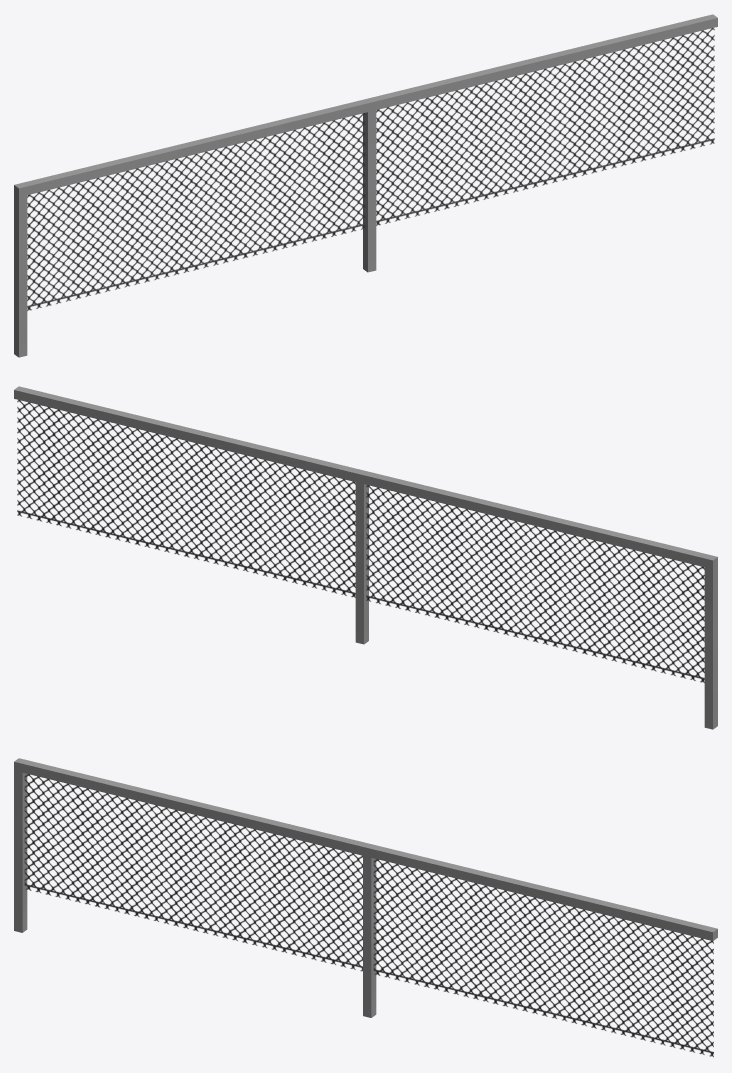
The model's file is fence-chainlink-1rail-2s-cbj_LOD00.gltf.
The picture shows the model from 3 angles, top to bottom: view 1: azimuth 30°, elevation 25°; view 2: azimuth 150°, elevation 25°; view 3: azimuth 330°, elevation 25°; orthographic projection.
Visible parts, largest first — view 1: post; view 2: post; view 3: post.
Part boxes in pixels (<box>): post: <box>14,14,717,357</box>; post: <box>14,386,717,729</box>; post: <box>14,758,717,1057</box>.
Bounding box in the file's own units: 5.75 × 1.33 × 0.07.
